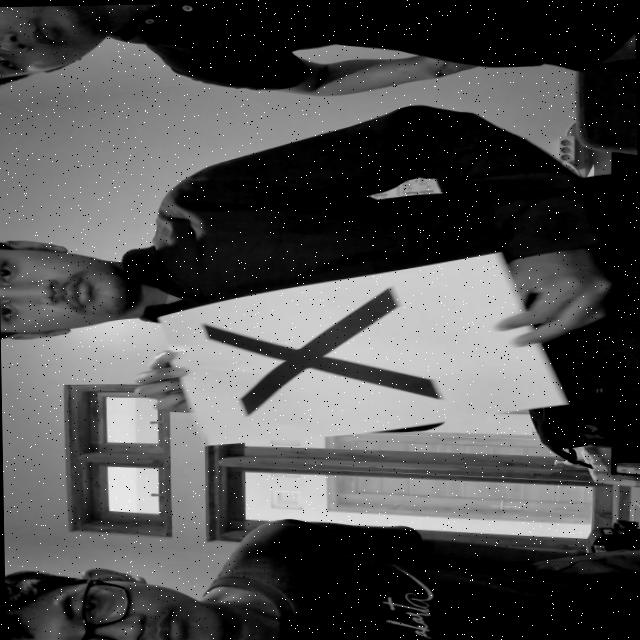x: (186, 266, 458, 430)
